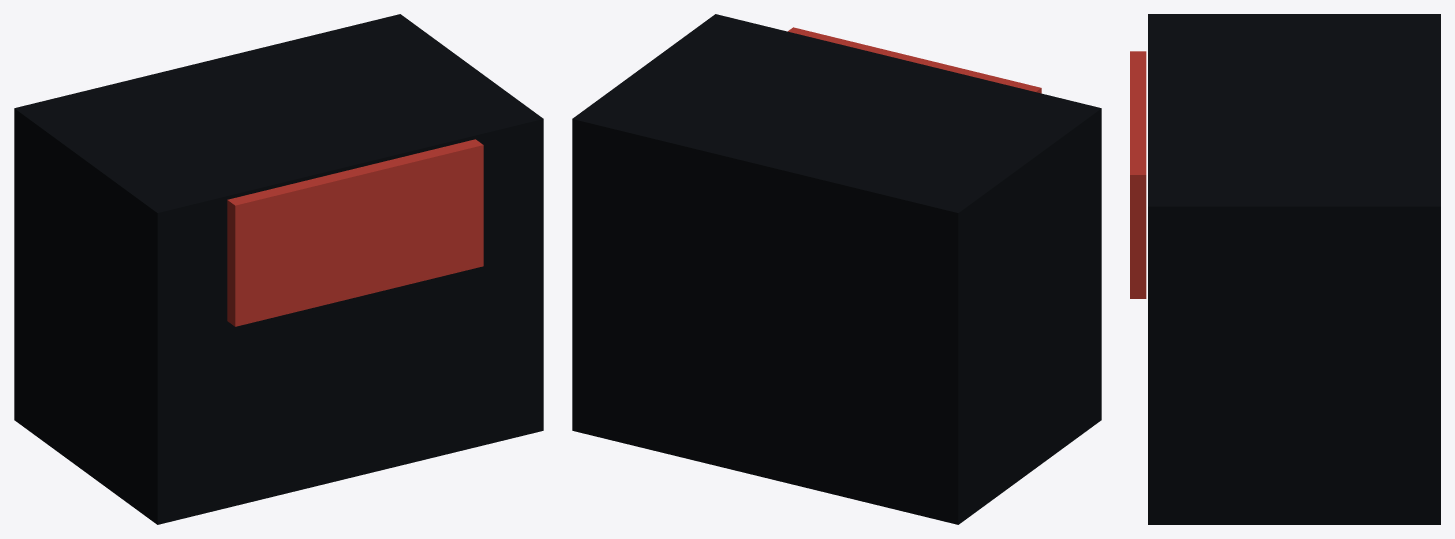
The model's file is prop.alarm_console.glb.
3 views of the same model, side by side, from view 1: azimuth 30°, elevation 25°; view 2: azimuth 150°, elevation 25°; view 3: azimuth 270°, elevation 25° (orthographic). The views are drawn at different scales.
Parts seen in each view (by area): view 1: console_body, screen_glow; view 2: console_body, screen_glow; view 3: console_body, screen_glow.
Part boxes in pixels (x1,y1,x2,y2): console_body: [14, 14, 543, 524]; screen_glow: [227, 139, 483, 326]; console_body: [572, 14, 1101, 524]; screen_glow: [788, 27, 1041, 93]; console_body: [1148, 14, 1440, 524]; screen_glow: [1130, 51, 1146, 298].
Bounding box in the file's own units: 1.4 × 1.08 × 0.955.
